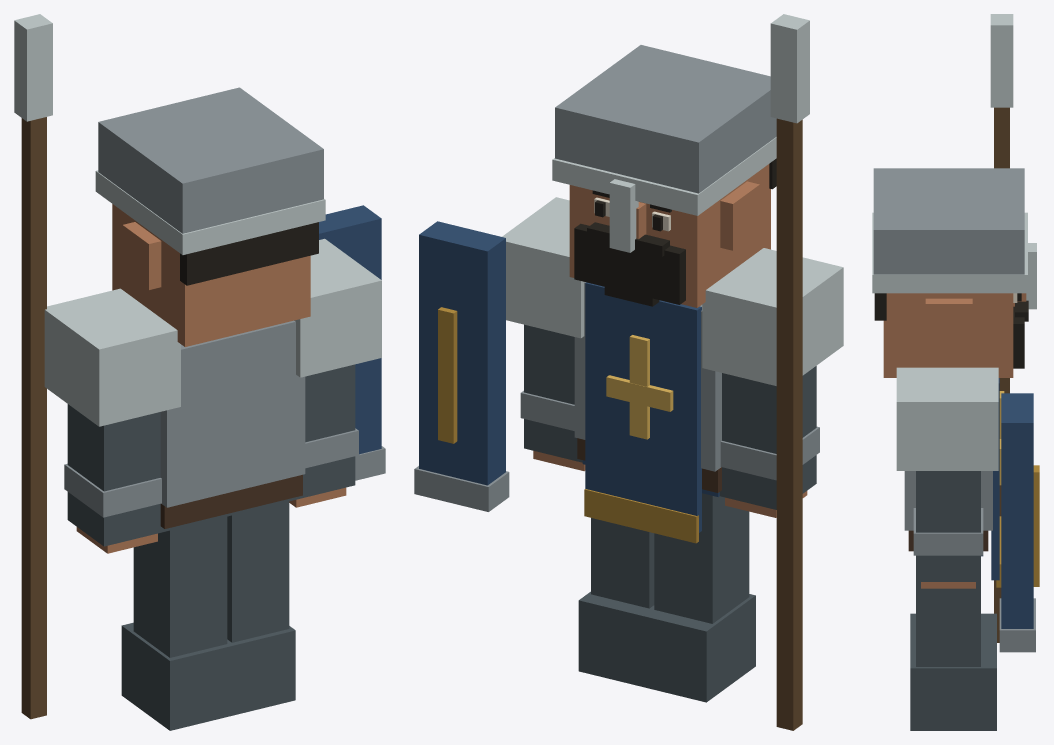
Rendered from town_guard.obj.
The picture shows the model from 3 angles, left to right: view 1: azimuth 30°, elevation 25°; view 2: azimuth 150°, elevation 25°; view 3: azimuth 270°, elevation 25°; orthographic projection. The views are drawn at different scales.
Parts seen in each view (by area): view 1: head_37_helmet, body_30_chain_chest, equipment_right_40_spear_shaft, right_arm_35_shoulder_right, head_3_head, right_leg_24_right_leg, right_arm_18_right_arm, left_arm_36_shoulder_left, right_leg_26_right_boot, left_leg_25_left_leg, equipment_left_42_shield, head_38_helmet_band (+10 smaller); view 2: head_37_helmet, body_31_tabard, equipment_left_42_shield, equipment_right_40_spear_shaft, right_arm_35_shoulder_right, right_leg_24_right_leg, right_leg_26_right_boot, left_arm_36_shoulder_left, head_3_head, right_arm_18_right_arm, head_15_beard, left_leg_27_left_boot (+15 smaller); view 3: head_37_helmet, left_arm_36_shoulder_left, head_3_head, equipment_left_42_shield, left_leg_27_left_boot, left_arm_19_left_arm, left_leg_25_left_leg, head_38_helmet_band, head_4_left_ear, equipment_right_41_spear_blade, left_arm_22_cuff, equipment_right_40_spear_shaft (+9 smaller).
Boxes of the visible parts, x1,y1,x2,y2 form: head_37_helmet: (98,87,323,233); body_30_chain_chest: (160,320,305,507); equipment_right_40_spear_shaft: (21,117,46,719); right_arm_35_shoulder_right: (44,288,180,426); head_3_head: (112,204,310,346); right_leg_24_right_leg: (133,516,227,657); right_arm_18_right_arm: (67,404,166,546); left_arm_36_shoulder_left: (294,238,381,377); right_leg_26_right_boot: (121,622,233,730); left_leg_25_left_leg: (227,501,289,642); equipment_left_42_shield: (319,205,381,454); head_38_helmet_band: (95,170,325,254); head_37_helmet: (555,45,776,193); body_31_tabard: (585,282,701,532); equipment_left_42_shield: (419,221,505,485); equipment_right_40_spear_shaft: (776,118,802,730); right_arm_35_shoulder_right: (702,248,843,385); right_leg_24_right_leg: (654,493,749,623); right_leg_26_right_boot: (641,594,755,702); left_arm_36_shoulder_left: (502,197,584,338); head_3_head: (569,164,770,307); right_arm_18_right_arm: (719,366,816,509); head_15_beard: (574,223,685,304); left_leg_27_left_boot: (578,591,654,686); head_37_helmet: (873,168,1024,274); left_arm_36_shoulder_left: (896,367,998,470); head_3_head: (883,293,1013,377); equipment_left_42_shield: (1001,393,1033,628); left_leg_27_left_boot: (910,640,996,730); left_arm_19_left_arm: (916,471,980,581); left_leg_25_left_leg: (916,582,980,666); head_38_helmet_band: (872,212,1027,293); head_4_left_ear: (925,298,972,345); equipment_right_41_spear_blade: (990,14,1013,107); left_arm_22_cuff: (913,508,983,555); equipment_right_40_spear_shaft: (994,107,1009,642).
Bounding box in the file's own units: 1.45 × 2.63 × 0.6456.
